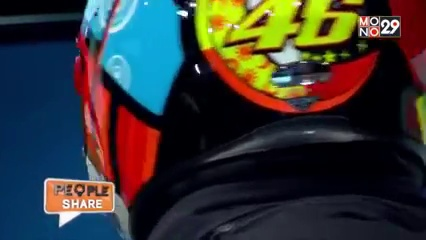helmet: (71, 0, 401, 188)
